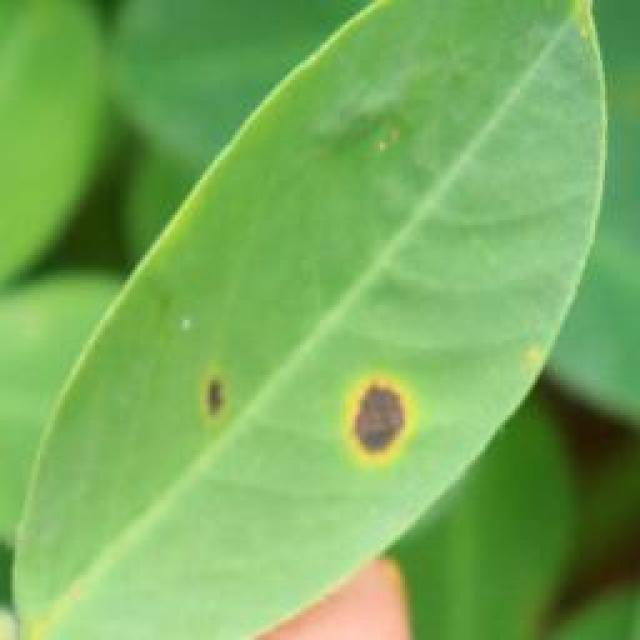Sigatoka: (302, 352, 433, 494), (186, 366, 232, 438)
